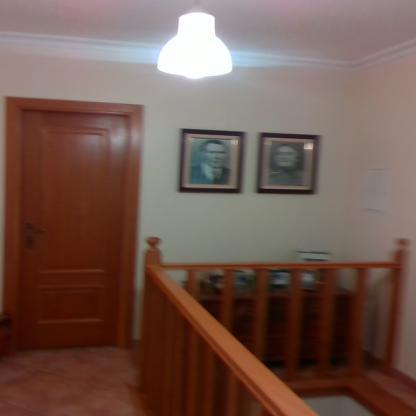door: (20, 108, 128, 350)
lever: (26, 228, 48, 235)
